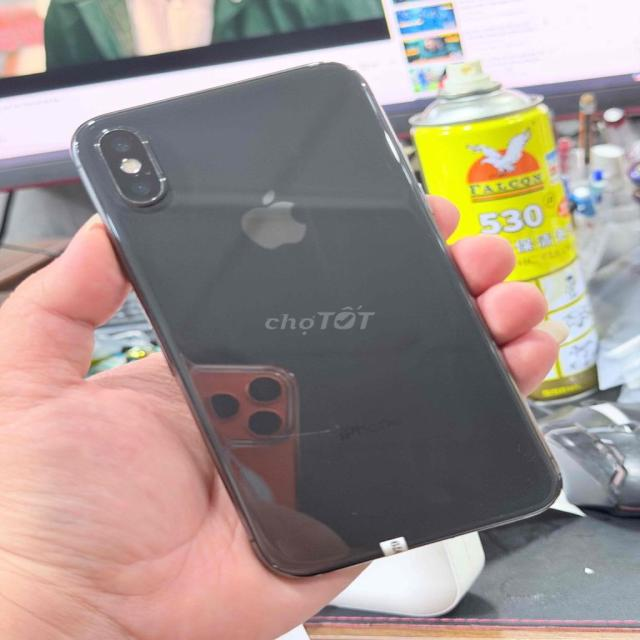gen_x_xs: (73, 63, 559, 575)
scratch: (498, 427, 566, 506), (124, 125, 184, 191), (312, 56, 382, 102), (270, 558, 338, 586), (77, 130, 114, 160), (335, 498, 375, 524)
